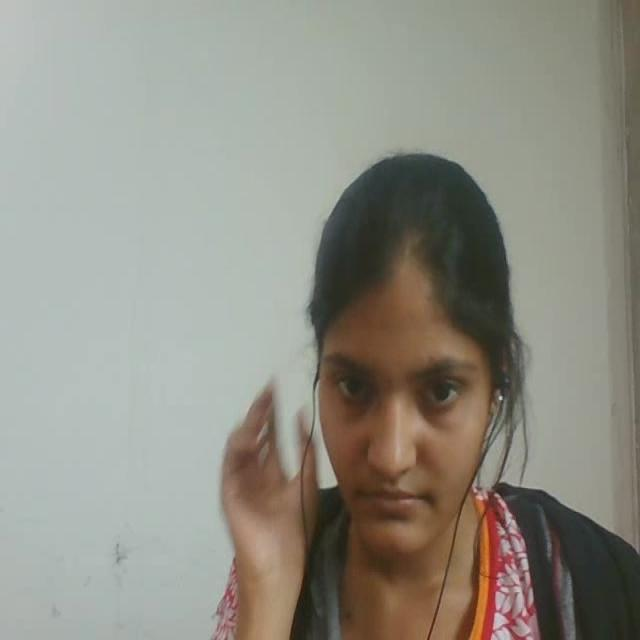Bored: (271, 117, 533, 592)
